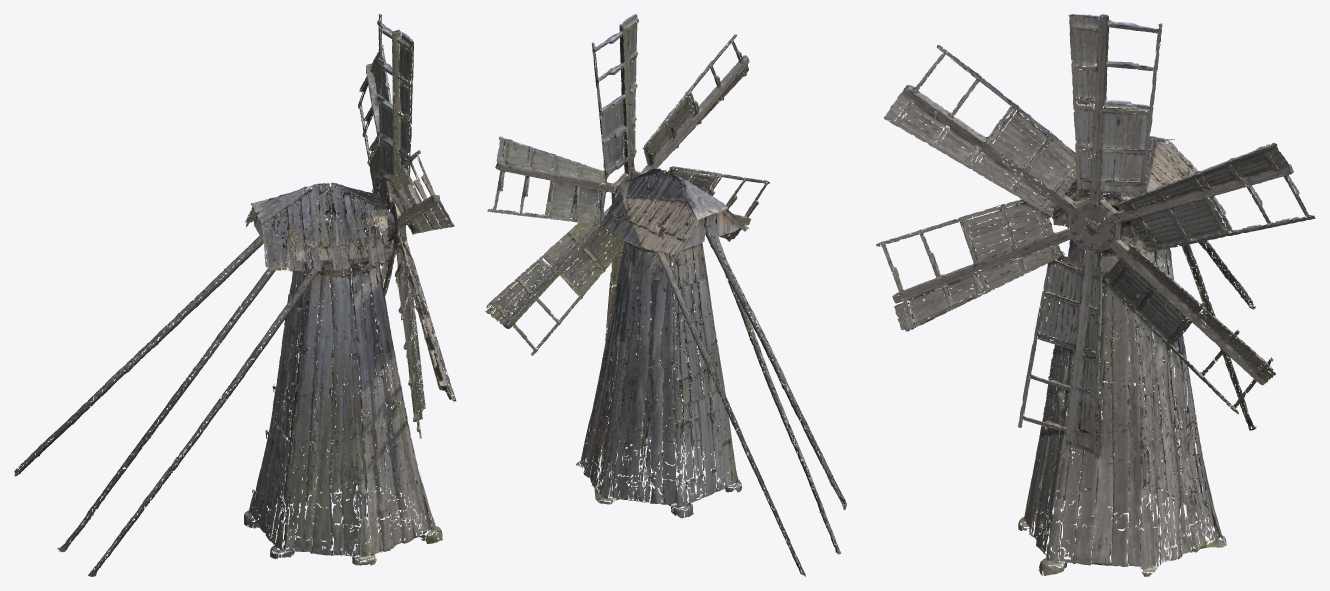
The model's file is windmill.glb.
3 renders of one model, left to right at view 1: azimuth 30°, elevation 25°; view 2: azimuth 150°, elevation 25°; view 3: azimuth 270°, elevation 25°, orthographic. The views are drawn at different scales.
Visible parts, largest first — view 1: Object_2, Object_3, Object_5, Object_4, Object_6; view 2: Object_2, Object_3, Object_4, Object_5, Object_6; view 3: Object_2, Object_3, Object_4, Object_5, Object_6.
Part boxes in pixels (box(x1,y1,x2,y2)): Object_2: box(57, 14, 454, 576); Object_3: box(14, 145, 456, 576); Object_5: box(137, 140, 455, 559); Object_4: box(118, 100, 434, 531); Object_6: box(261, 201, 432, 565); Object_2: box(487, 14, 840, 576); Object_3: box(502, 146, 846, 573); Object_4: box(485, 79, 809, 502); Object_5: box(513, 125, 789, 504); Object_6: box(528, 204, 739, 501); Object_2: box(876, 14, 1315, 575); Object_3: box(893, 139, 1268, 566); Object_4: box(889, 97, 1275, 549); Object_5: box(877, 136, 1255, 576); Object_6: box(992, 147, 1228, 541).
Size of the model in its own units: 6.93 by 8.46 by 5.98.
1 material, 1 textured.
